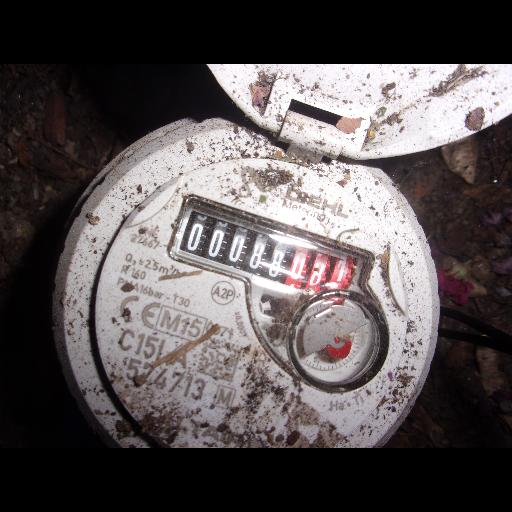0: (181, 212, 214, 257), (202, 218, 234, 263), (221, 225, 253, 270), (283, 245, 314, 290)
1: (325, 252, 356, 297)
8: (262, 239, 293, 283), (242, 232, 272, 277), (304, 251, 333, 295)
border_water_meter_number: (165, 191, 378, 320)
